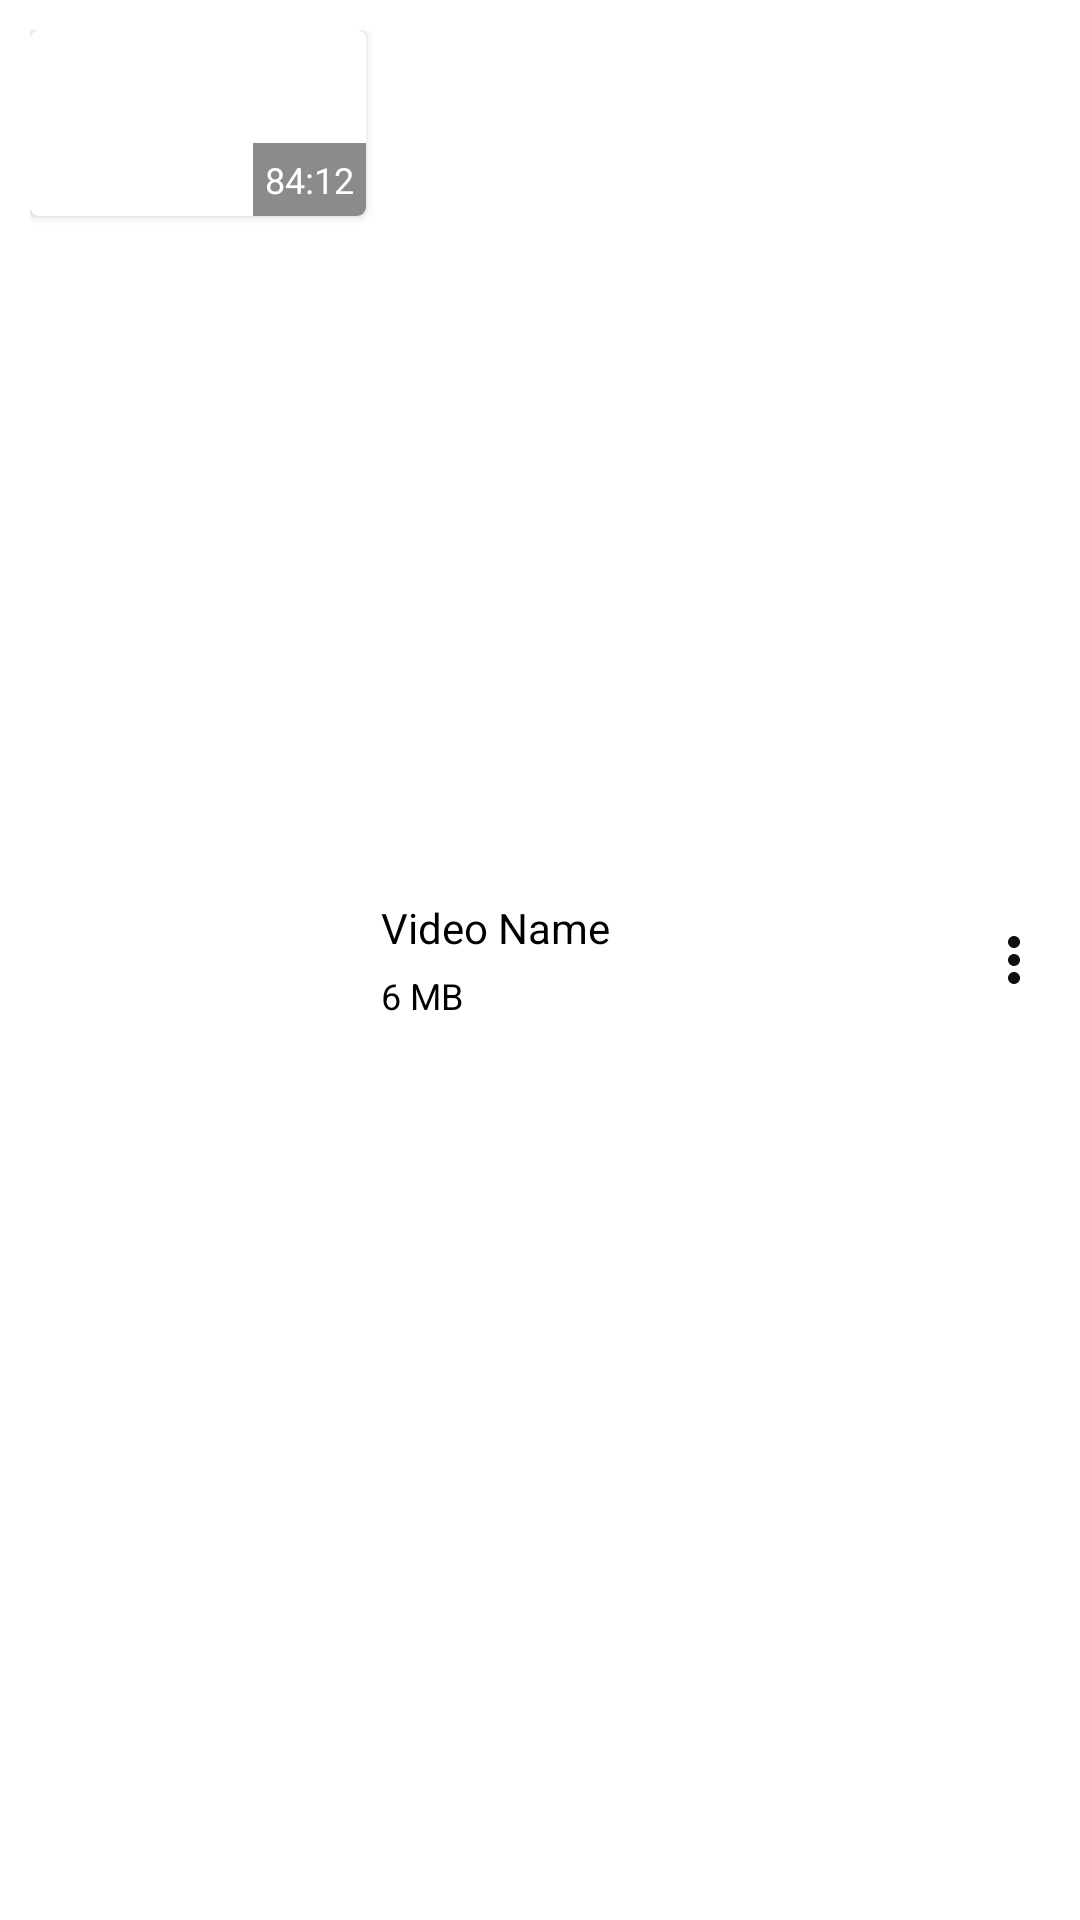

Icons on this 1080px×1920px Android screen, each with the point to tap as point (x, y):
morevideo: point (1014, 960)
